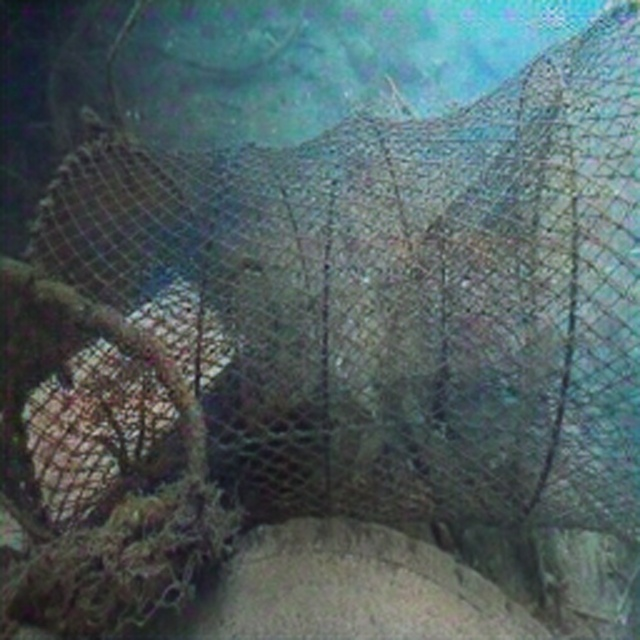mine: (7, 0, 640, 549)
